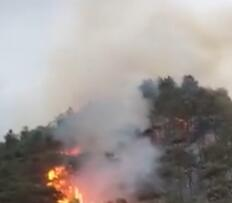fire: (44, 147, 90, 202)
yanwu: (57, 0, 163, 200), (53, 0, 230, 90)
